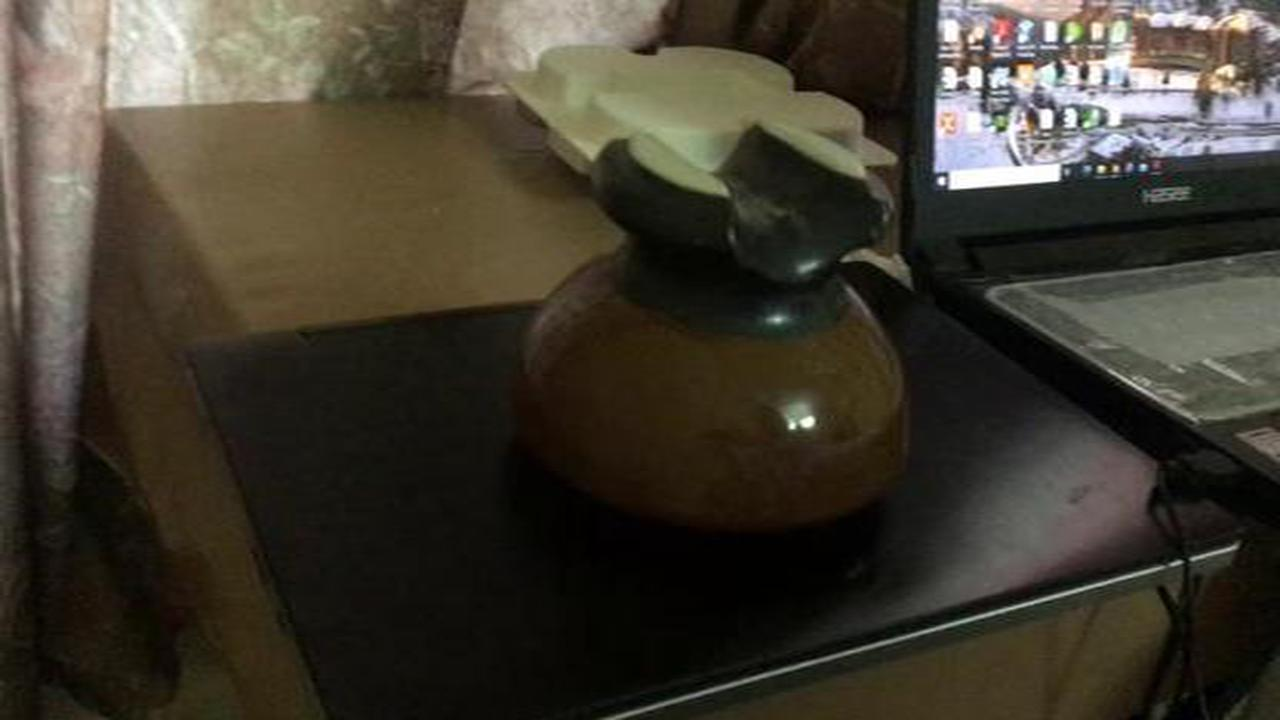insulator_pin: (496, 107, 954, 547)
